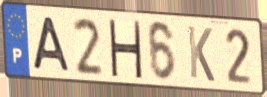2: (71, 16, 105, 76), (224, 27, 253, 87)
6: (147, 19, 178, 83)
A: (31, 15, 72, 74)
H: (106, 17, 144, 81)
K: (186, 24, 217, 85)
